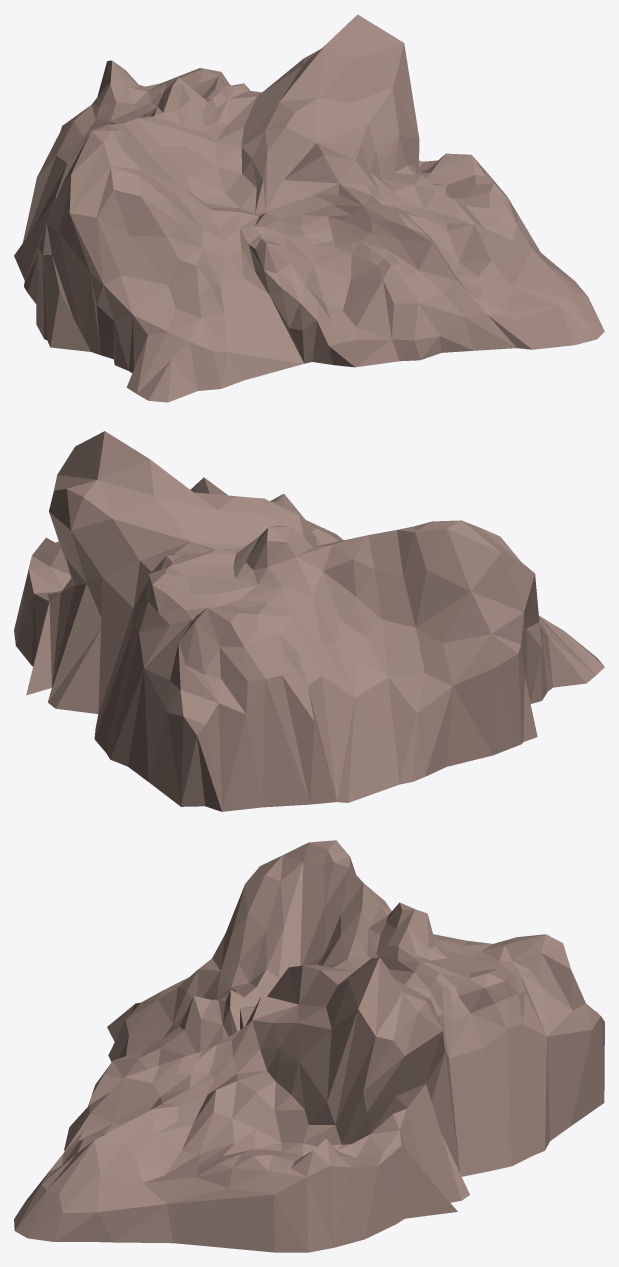
File: mountain_004.fbx
3 views of the same model, one above another, from view 1: azimuth 30°, elevation 25°; view 2: azimuth 150°, elevation 25°; view 3: azimuth 270°, elevation 25° (orthographic). The views are drawn at different scales.
Visible parts, largest first — view 1: mountain.004; view 2: mountain.004; view 3: mountain.004.
Part boxes in pixels (<box>): mountain.004: <box>14,14,604,402</box>; mountain.004: <box>14,431,604,811</box>; mountain.004: <box>14,840,604,1252</box>.
Size of the model in its own units: 4938 by 2247 by 5084.
1 material, 1 textured.
